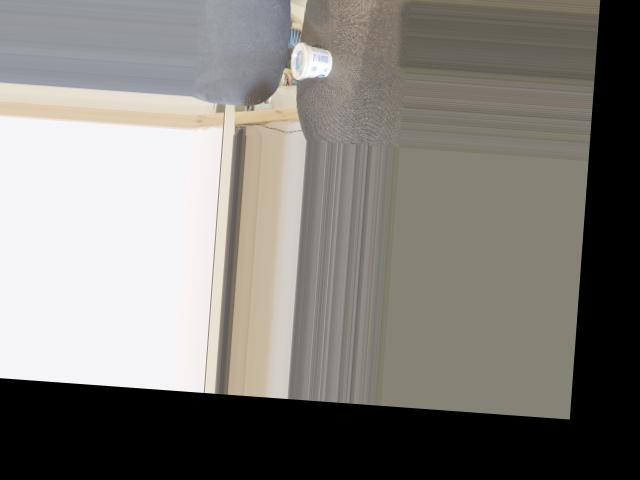cotage: (288, 42, 337, 81)
